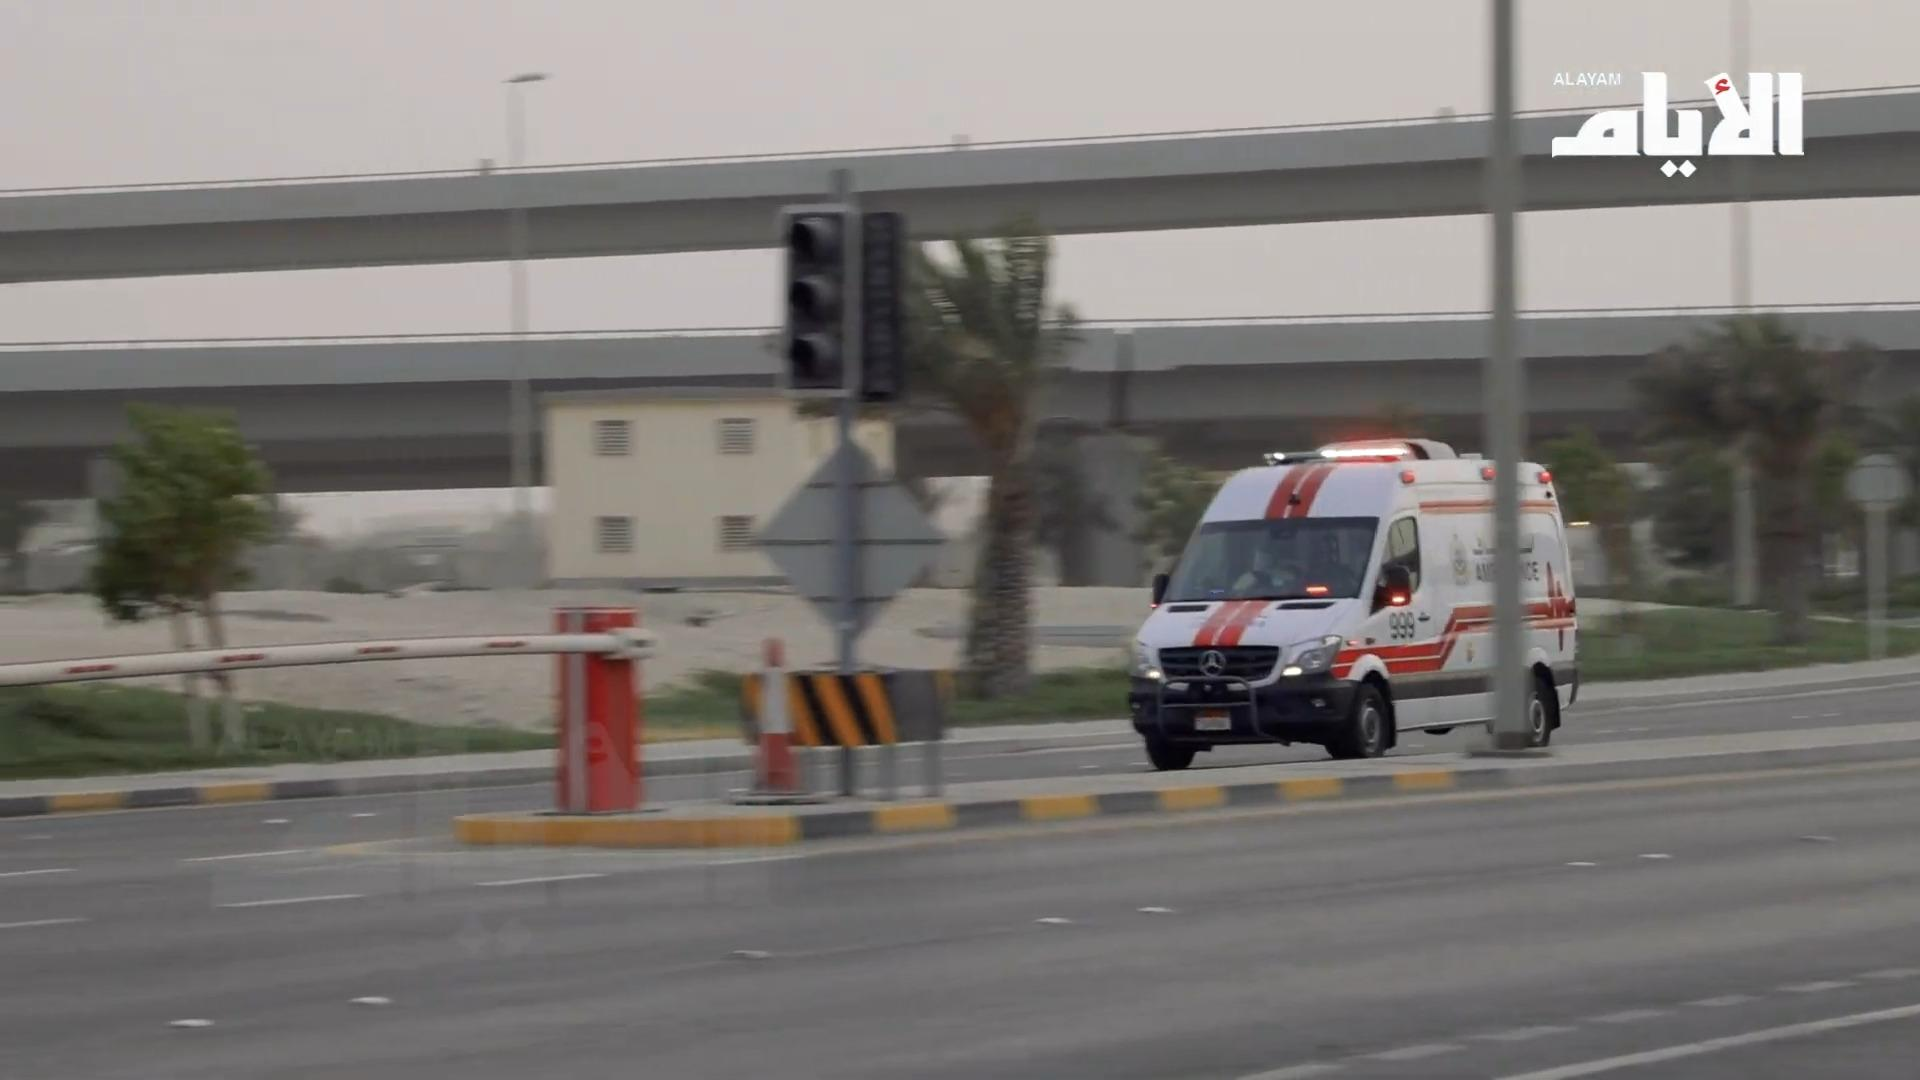ambulance_on: (1129, 440, 1577, 770)
